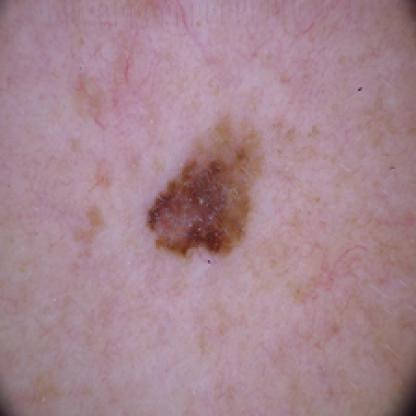Skin_Cancer-Malignant: (146, 119, 266, 260)
